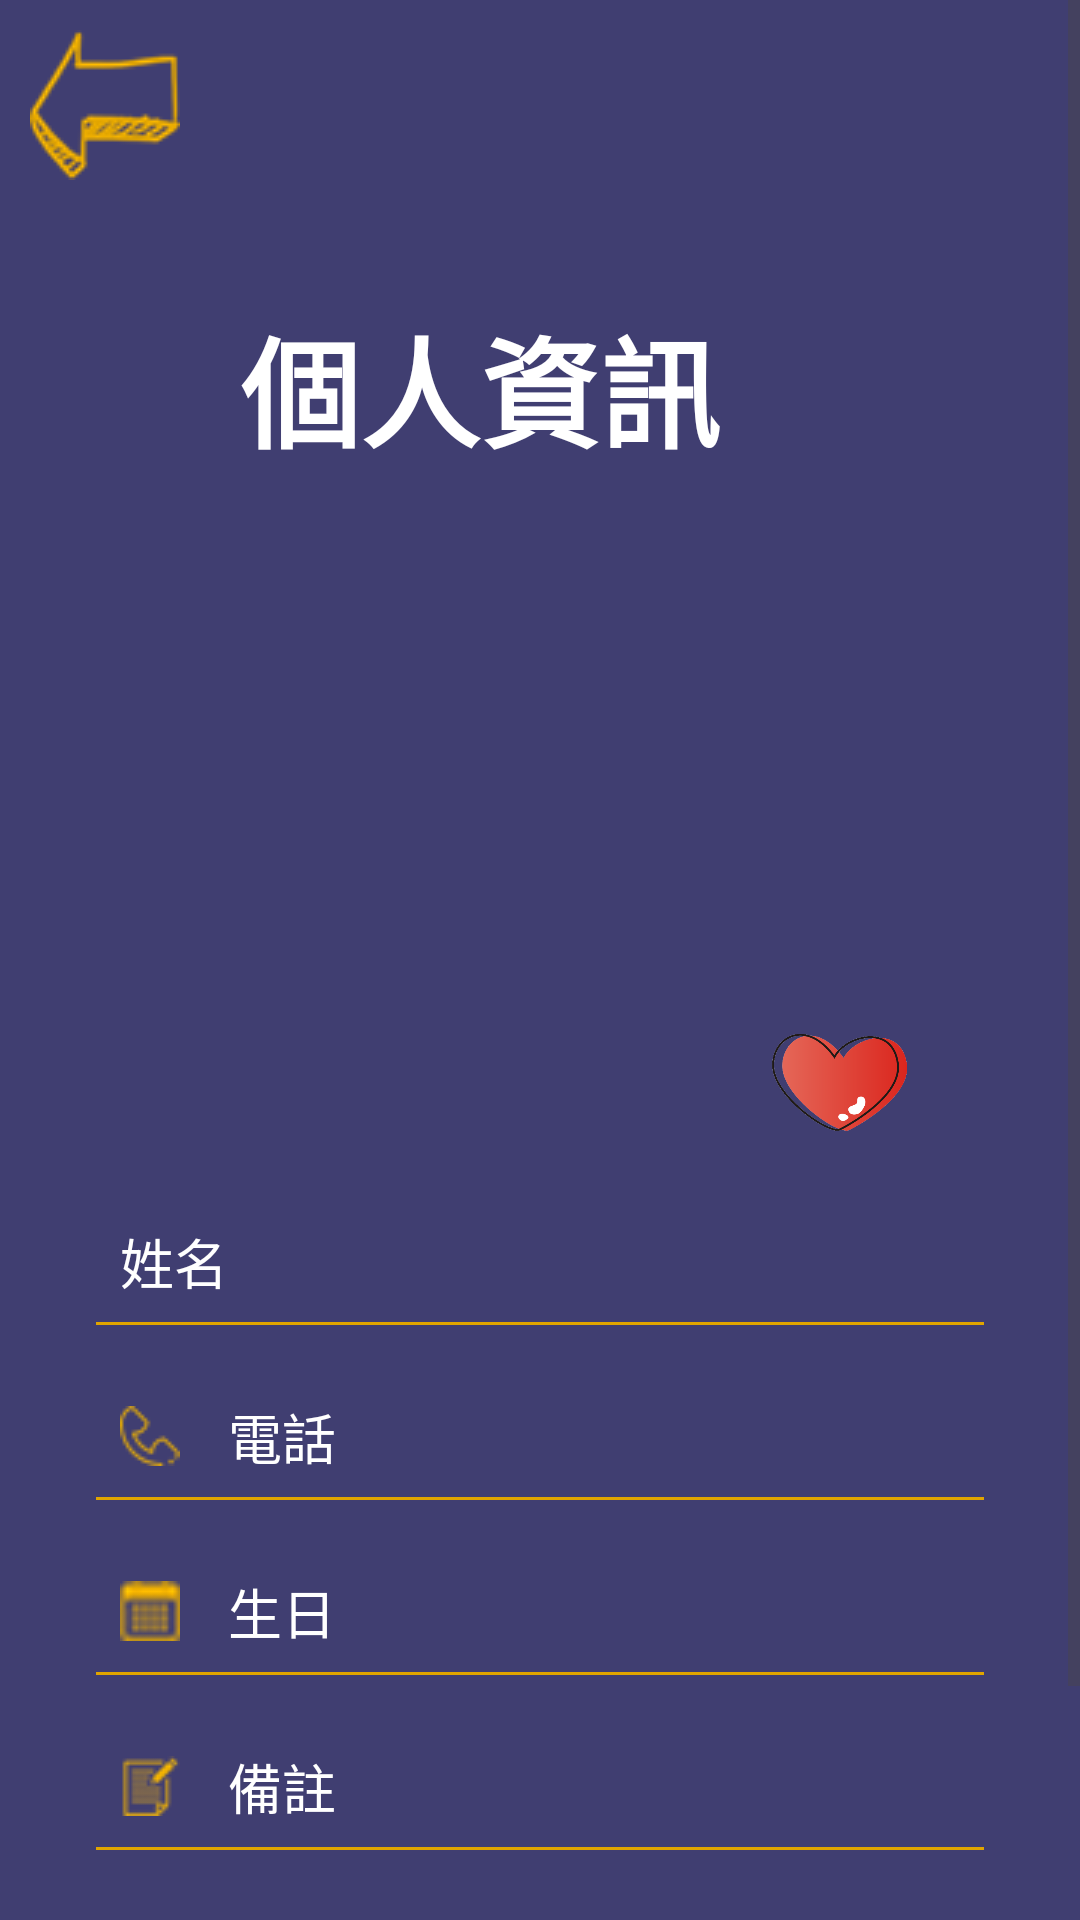

Icons on this 1080*1920 Android screen, each with the point to tap as (x=x, y=y):
back: (x=105, y=106)
intimacy value: (x=839, y=1082)
